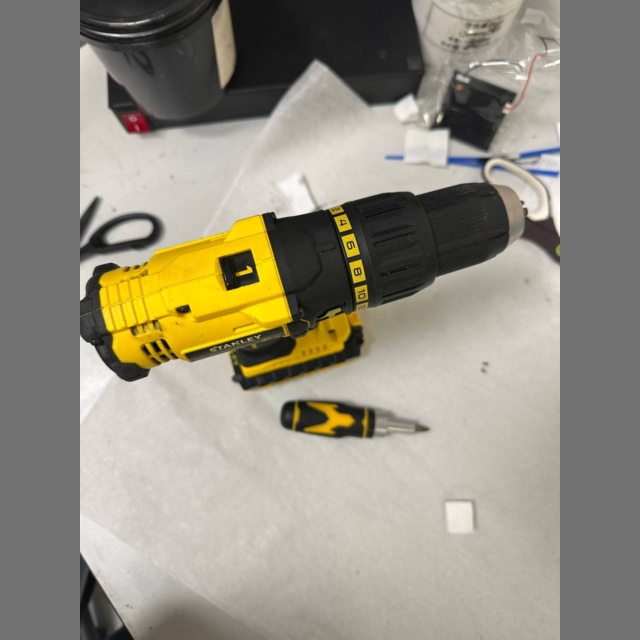drill: (80, 183, 525, 387)
scissor: (483, 157, 560, 236), (80, 211, 162, 282)
screwdriver: (281, 400, 430, 438)
